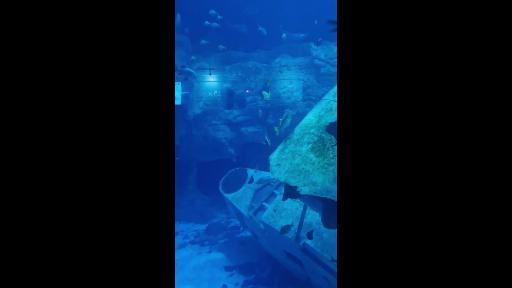Fish: (275, 111, 293, 135), (280, 26, 308, 40), (282, 184, 303, 201), (226, 20, 248, 33), (178, 66, 195, 81), (280, 222, 293, 235), (179, 66, 195, 75), (327, 20, 337, 31), (264, 131, 270, 146), (262, 91, 271, 100), (258, 25, 266, 35), (175, 14, 181, 27), (330, 256, 337, 266), (307, 230, 313, 240), (314, 39, 322, 46), (200, 40, 209, 45), (210, 10, 218, 15), (211, 23, 220, 27), (218, 46, 226, 50), (204, 21, 210, 26), (258, 107, 261, 117), (184, 28, 189, 33), (282, 34, 286, 39), (191, 56, 196, 59), (314, 20, 317, 25), (268, 80, 270, 86), (218, 16, 222, 19)
